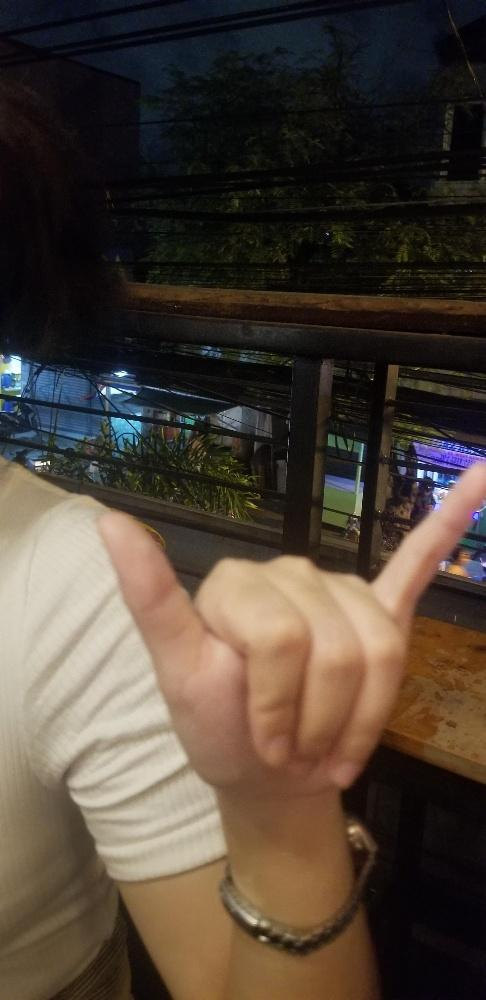y: (93, 455, 485, 792)
